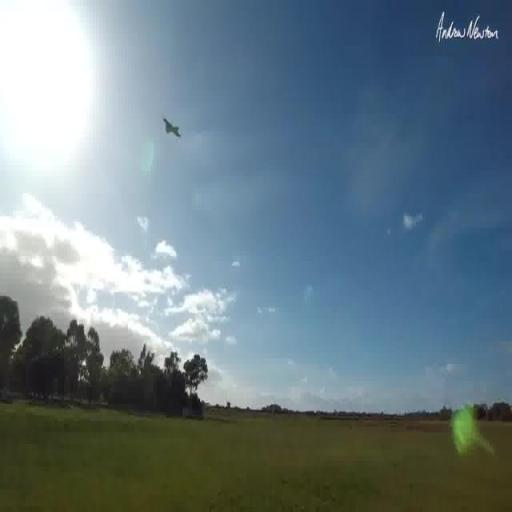uav: (158, 108, 189, 158)
